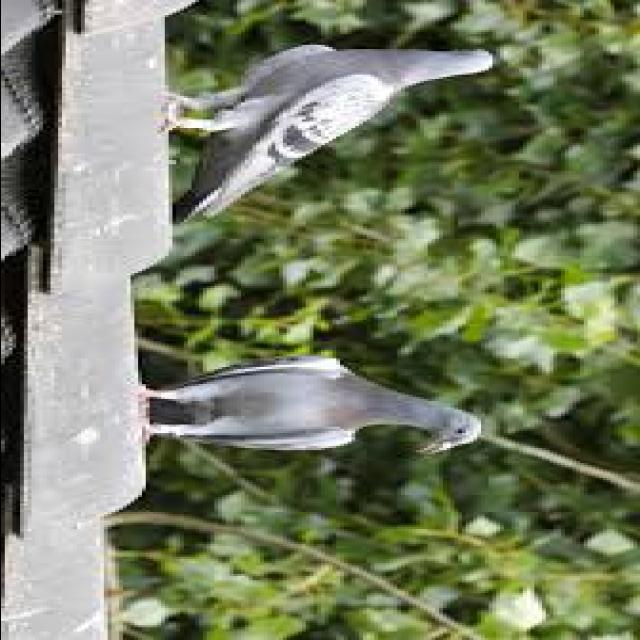pigeon: (155, 31, 528, 240)
